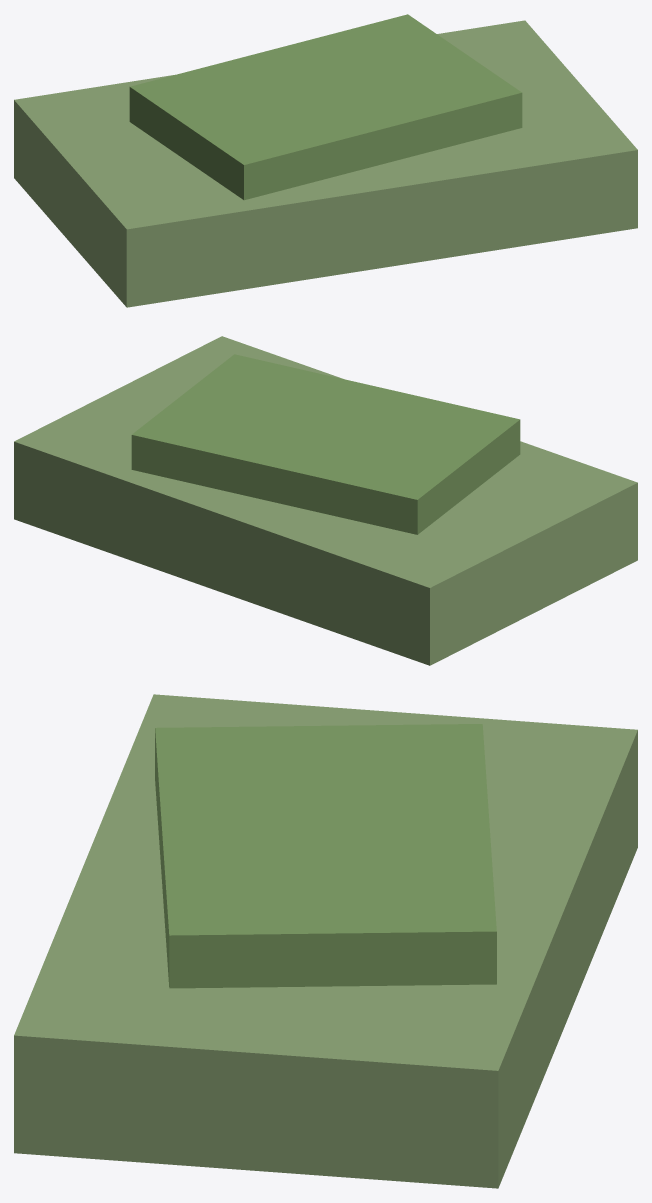
The model's file is structure.glb.
3 renders of one model, top to bottom at view 1: azimuth 30°, elevation 25°; view 2: azimuth 150°, elevation 25°; view 3: azimuth 270°, elevation 25°, orthographic. The views are drawn at different scales.
Parts seen in each view (by area): view 1: Box1, Box2; view 2: Box1, Box2; view 3: Box1, Box2.
Boxes of the visible parts, x1,y1,x2,y2 form: Box1: [14, 20, 637, 307]; Box2: [129, 14, 522, 200]; Box1: [14, 336, 637, 665]; Box2: [131, 354, 520, 534]; Box1: [14, 694, 637, 1188]; Box2: [155, 724, 496, 988].
Size of the model in its own units: 139 by 29.39 by 97.4.
